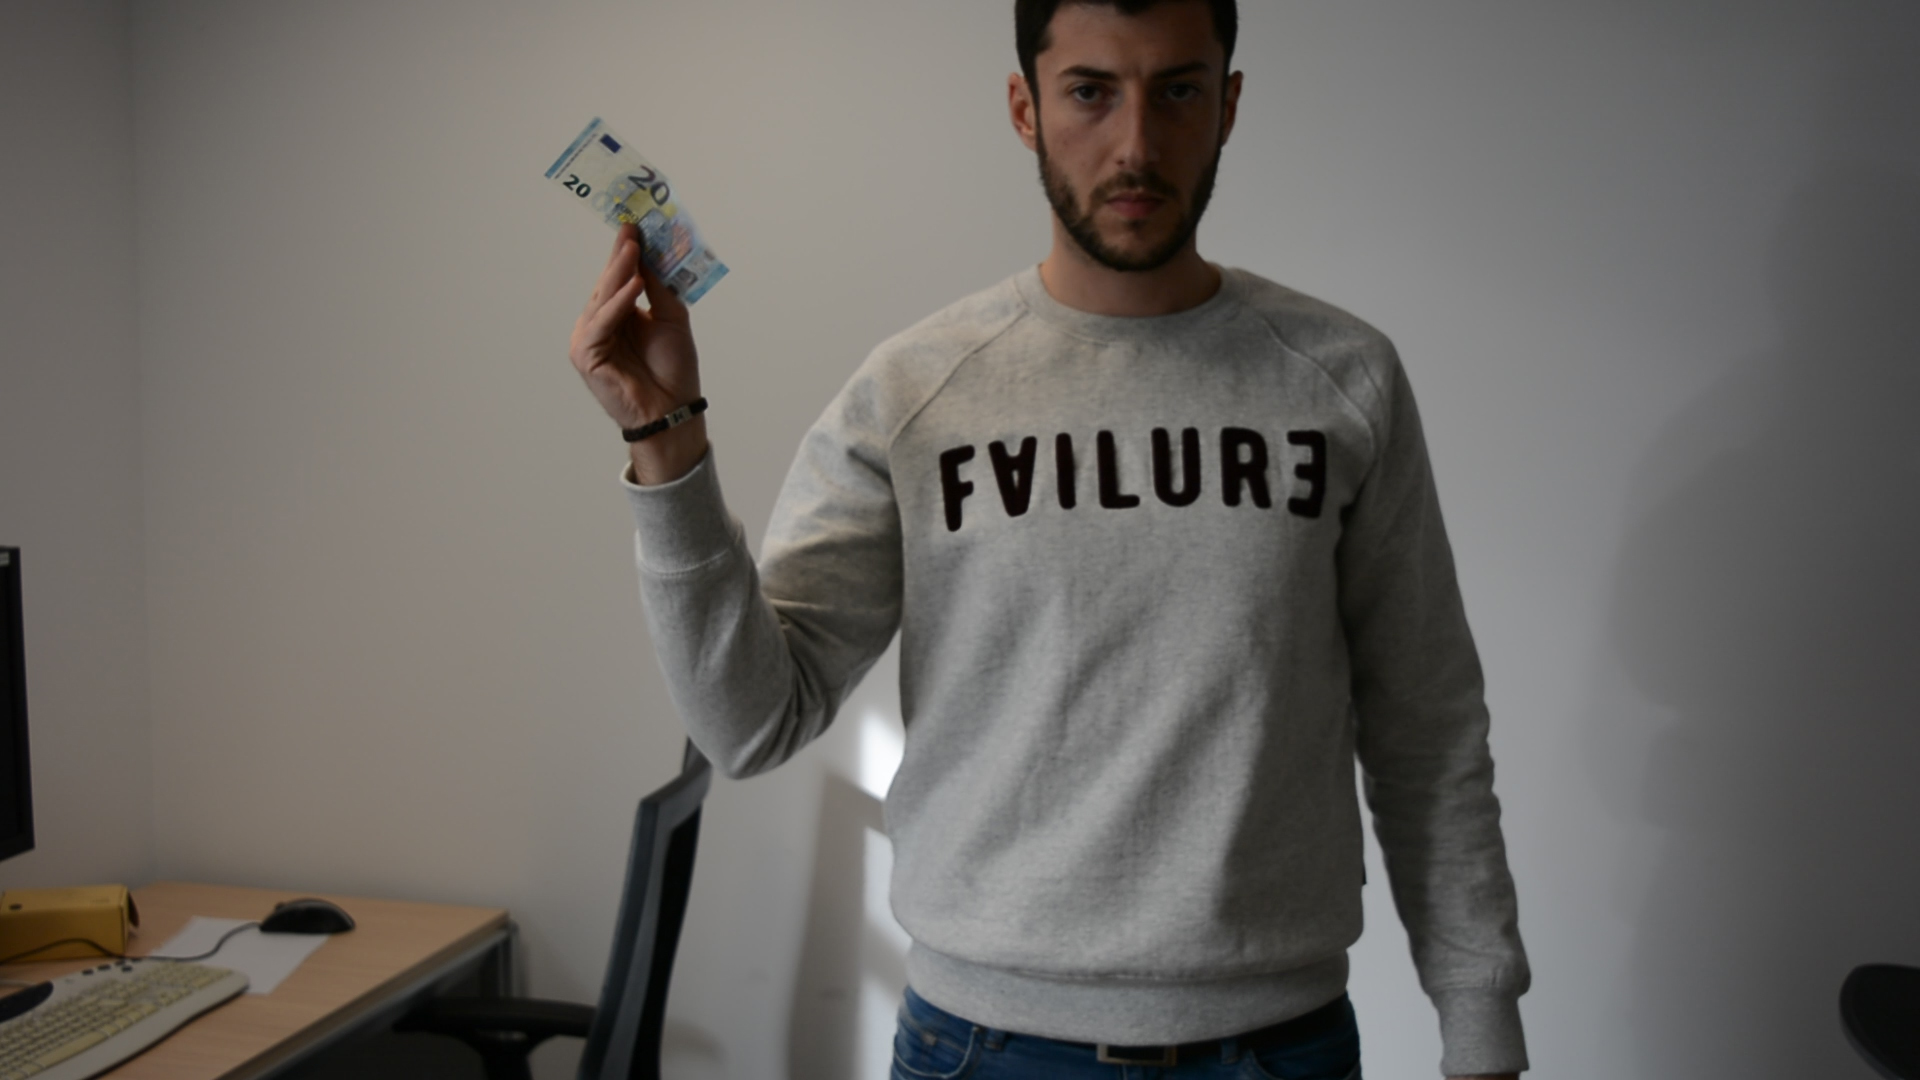billete: (543, 113, 732, 309)
